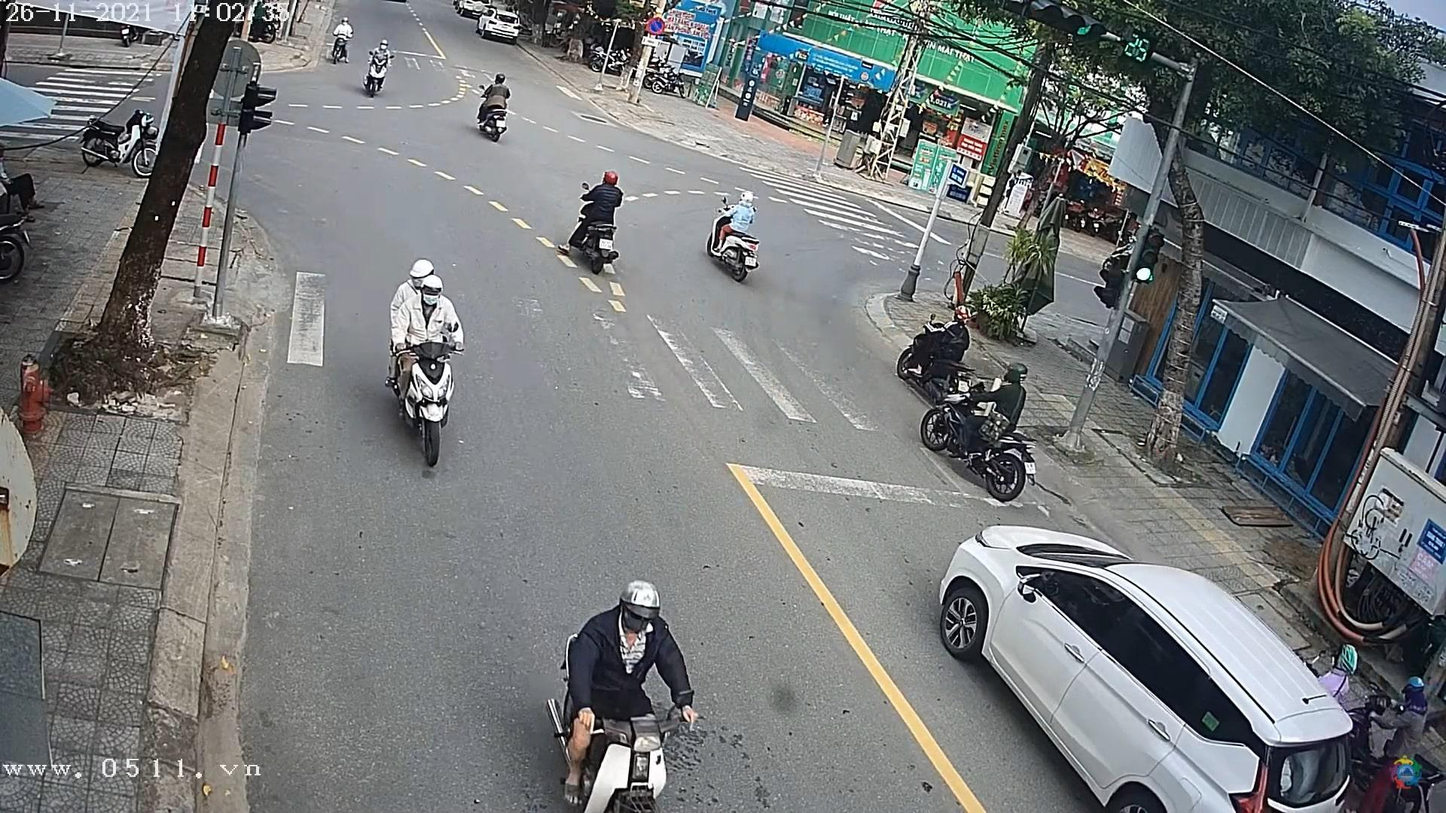car: (939, 526, 1363, 811)
motorbike: (921, 379, 1040, 509), (390, 330, 459, 475), (551, 221, 621, 276), (706, 226, 758, 283), (477, 107, 513, 141), (362, 53, 388, 100)
